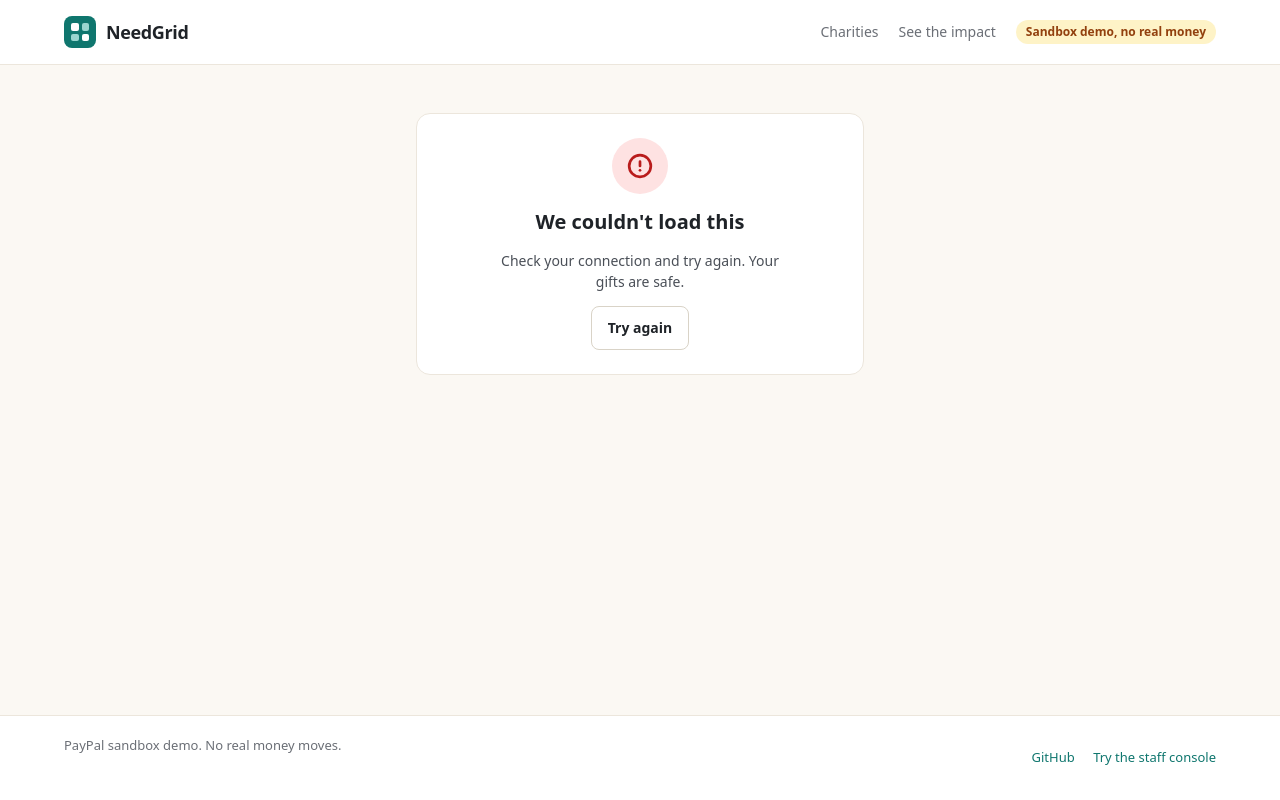
Test case: Impact page /impact/:token › shows an error with Try again when the page can't load
Expected: the message shows "We couldn't load this", [536, 208, 744, 235]
What coordinates should you click on to do the following:
click the button "Try again"
I would click on:
 (640, 328)
Its box is [591, 306, 689, 350].
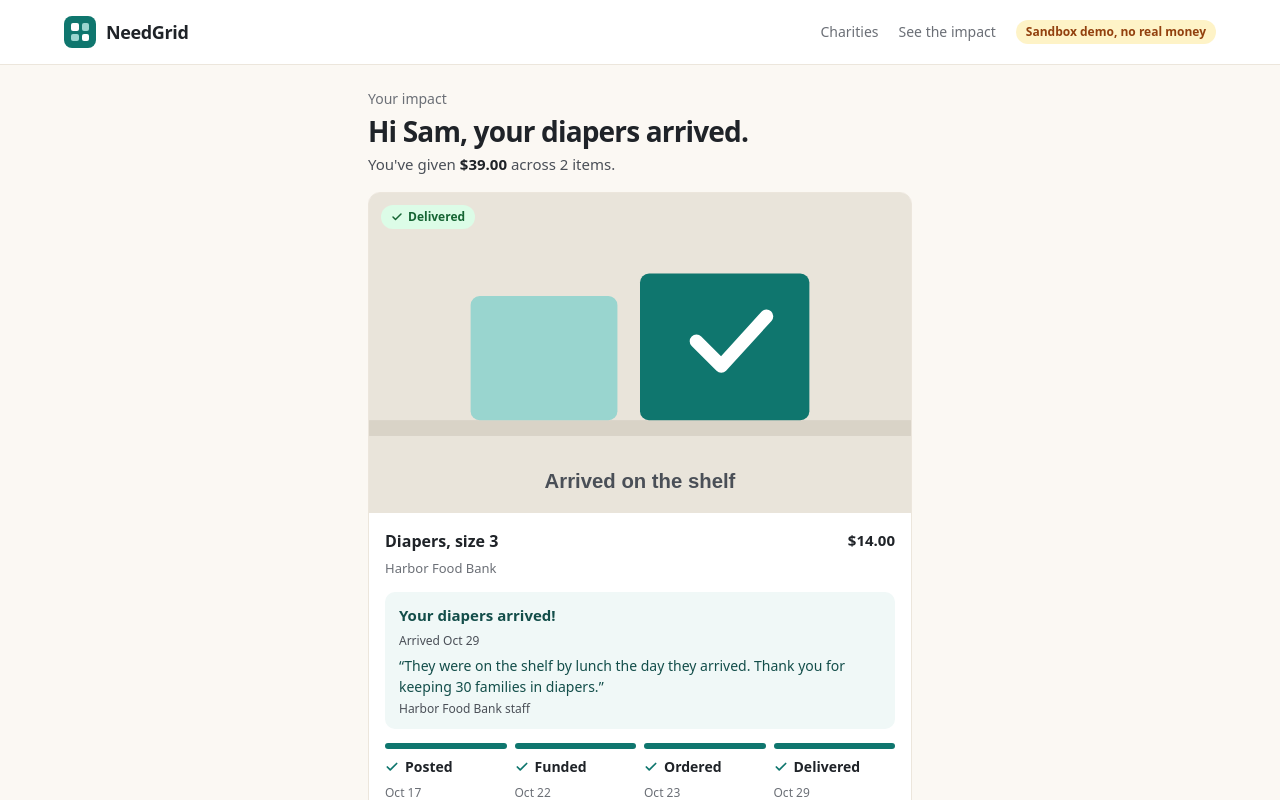
Result: the heading "Hi Sam, your diapers arrived." is shown at [368, 112, 748, 150]
